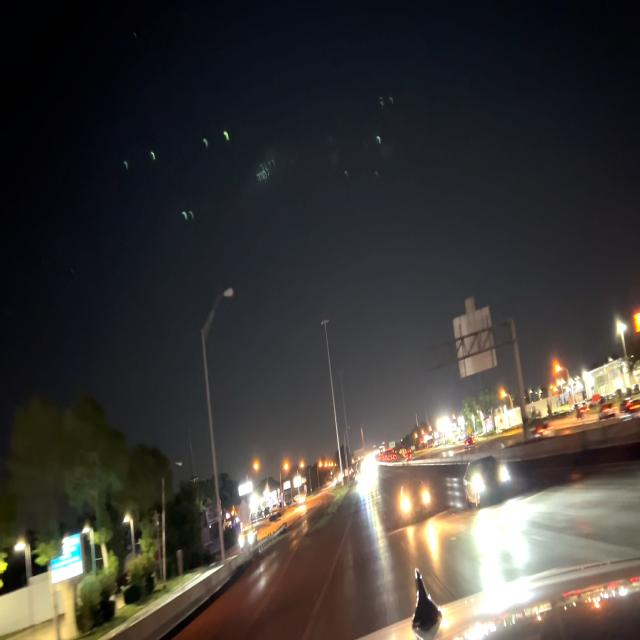back-of-sign: (455, 294, 499, 378)
